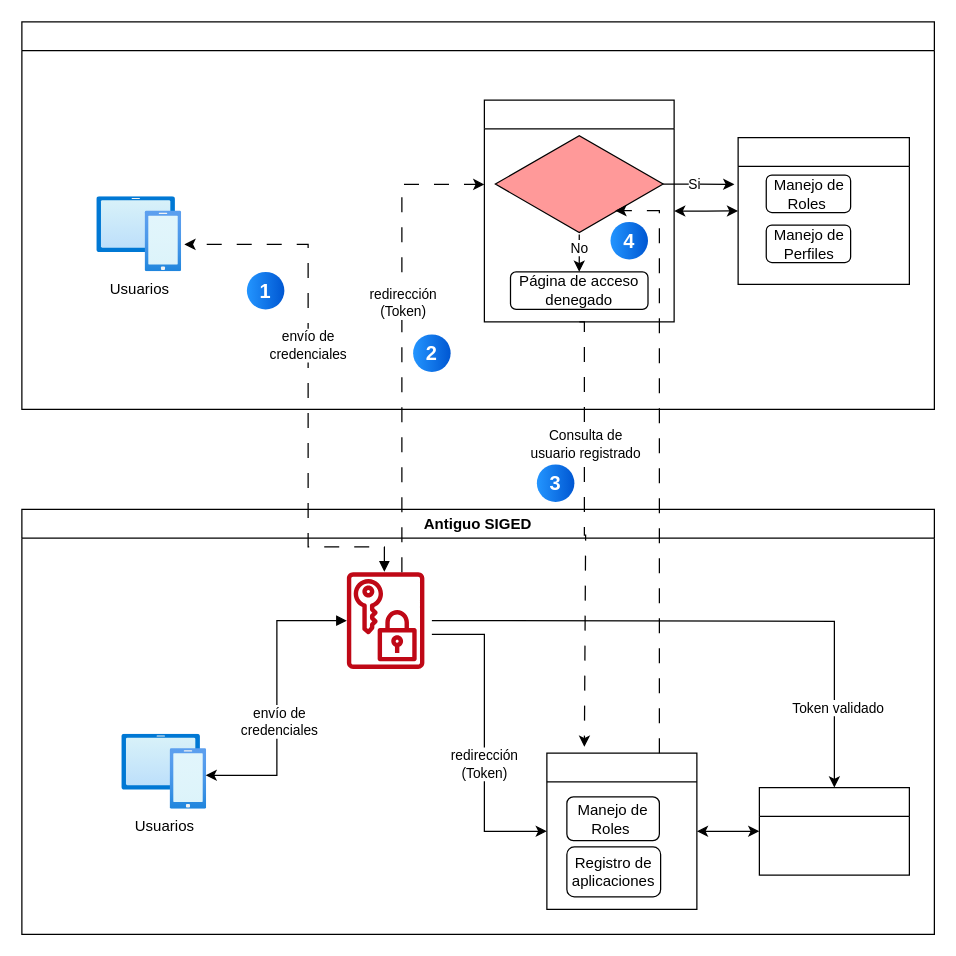
The diagram is 956 pixels wide and 956 high, and some of its shapes have lost their labels. Here are the shapes that lost their labels. From the top down, the box of each, then its label:
(494, 132, 663, 234): El usuario esta registrado en SISEG ?
(21, 21, 934, 409): NuevoSIGED
(483, 99, 674, 322): NSIGED- Fronted
(737, 136, 909, 284): NSIGED- Backend
(546, 752, 697, 909): SIGED- Fronted
(758, 786, 909, 875): SIGED- Backend
